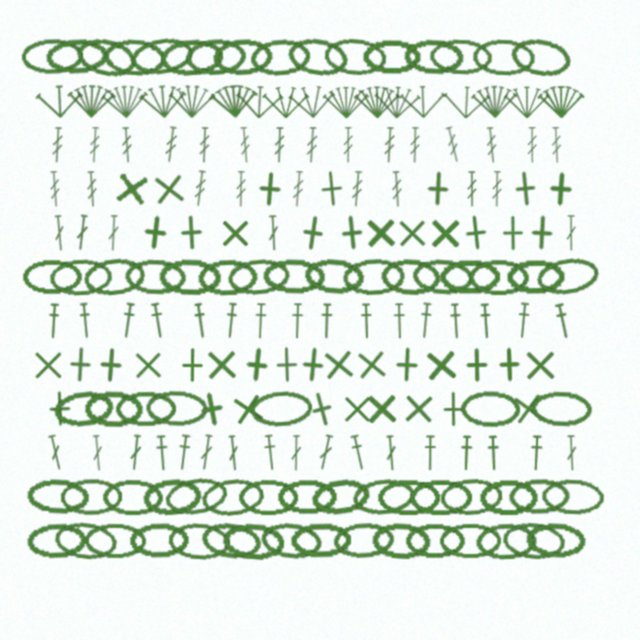chain: (73, 33, 139, 81), (534, 254, 601, 299), (508, 34, 573, 80), (129, 34, 195, 79), (163, 474, 229, 519), (285, 34, 350, 79), (199, 519, 264, 563), (53, 519, 119, 562), (309, 475, 373, 519), (226, 256, 292, 298), (82, 255, 146, 298), (200, 476, 265, 518), (351, 476, 416, 518), (259, 520, 324, 562), (52, 388, 116, 430), (323, 36, 388, 77), (501, 520, 566, 561), (159, 37, 224, 77), (167, 521, 232, 561), (303, 256, 366, 297), (141, 476, 204, 517), (249, 389, 313, 429), (221, 521, 285, 561), (103, 37, 166, 77), (411, 257, 474, 297), (184, 37, 248, 76), (342, 257, 406, 296), (439, 477, 503, 516), (332, 521, 396, 560), (249, 37, 311, 77), (45, 37, 108, 76), (26, 477, 89, 516), (472, 38, 536, 76), (212, 37, 274, 76), (380, 257, 442, 296), (525, 521, 587, 560), (429, 38, 492, 76), (49, 258, 112, 296), (541, 478, 604, 516), (475, 522, 538, 560), (371, 521, 432, 560), (145, 390, 209, 427), (403, 38, 465, 76), (124, 258, 186, 296), (197, 258, 259, 296), (530, 390, 592, 428), (26, 522, 88, 560), (158, 258, 221, 295), (262, 258, 325, 295), (508, 478, 571, 515), (21, 38, 83, 75), (60, 478, 122, 515), (377, 479, 440, 515), (409, 479, 472, 515), (84, 523, 147, 559), (129, 522, 190, 559), (290, 522, 351, 559), (468, 259, 530, 295), (102, 479, 164, 515), (439, 523, 501, 559), (84, 390, 144, 427), (460, 390, 520, 427), (22, 259, 83, 295), (439, 259, 500, 295), (115, 391, 176, 427), (277, 479, 338, 515), (405, 523, 466, 559), (362, 39, 422, 75), (506, 259, 566, 295), (238, 479, 298, 515), (479, 479, 539, 515)
double: (46, 434, 65, 471), (316, 434, 335, 471), (198, 434, 215, 471), (74, 214, 90, 251), (128, 434, 143, 471), (52, 215, 67, 251), (90, 435, 105, 471), (226, 435, 241, 471), (384, 435, 398, 471), (107, 215, 120, 251), (267, 215, 280, 251), (565, 435, 578, 471), (565, 215, 577, 251), (290, 435, 302, 471)
fan: (100, 81, 150, 120), (138, 81, 188, 120), (209, 81, 259, 120), (287, 81, 337, 120), (235, 82, 284, 120), (373, 82, 422, 120), (442, 82, 491, 120), (35, 82, 84, 119), (67, 82, 116, 119), (470, 82, 519, 119), (168, 82, 216, 119), (399, 82, 447, 119), (262, 83, 310, 119), (322, 83, 370, 119), (353, 83, 401, 119), (503, 83, 551, 119), (537, 83, 585, 119)
half_double: (552, 302, 573, 340), (348, 434, 368, 471), (148, 302, 167, 339), (119, 302, 137, 339), (175, 434, 193, 471), (192, 302, 209, 339), (417, 302, 434, 339), (515, 302, 532, 339), (262, 434, 279, 471), (77, 302, 93, 339), (223, 302, 239, 339), (154, 435, 170, 471), (46, 303, 61, 339), (253, 303, 268, 339), (290, 303, 305, 339), (319, 303, 334, 339), (359, 303, 374, 339), (392, 303, 407, 339), (448, 303, 463, 339), (478, 303, 493, 339), (459, 435, 474, 471), (486, 435, 501, 471), (529, 435, 544, 471), (423, 435, 437, 471)
single: (300, 387, 344, 431), (191, 388, 233, 430), (227, 388, 269, 430), (111, 168, 152, 209), (508, 388, 549, 429), (149, 169, 189, 209), (293, 213, 333, 253), (312, 169, 351, 208), (506, 169, 545, 208), (136, 213, 175, 252), (332, 213, 371, 252), (456, 213, 495, 252), (237, 345, 276, 384), (293, 345, 332, 384), (319, 345, 358, 384), (352, 345, 391, 384), (251, 170, 289, 208), (542, 170, 580, 208), (92, 346, 130, 384), (422, 346, 460, 384), (419, 170, 456, 207), (173, 214, 210, 251), (362, 214, 399, 251), (523, 214, 560, 251), (62, 346, 99, 383), (203, 346, 240, 383), (268, 346, 305, 383), (388, 346, 425, 383), (491, 346, 528, 383), (41, 390, 78, 427), (363, 390, 400, 427), (400, 390, 437, 427), (217, 215, 253, 251), (394, 215, 430, 251), (427, 215, 463, 251), (495, 215, 531, 251), (30, 347, 66, 383), (130, 347, 166, 383), (174, 347, 210, 383), (459, 347, 495, 383), (522, 347, 558, 383), (339, 391, 375, 427), (435, 391, 471, 427)
treble: (443, 126, 463, 163), (163, 126, 179, 163), (192, 170, 208, 207), (484, 127, 499, 163), (120, 127, 134, 163), (238, 127, 252, 163), (305, 127, 319, 163), (48, 171, 62, 207), (85, 171, 99, 207), (291, 171, 305, 207), (350, 171, 364, 207), (390, 171, 404, 207), (51, 127, 64, 163), (88, 127, 101, 163), (198, 127, 211, 163), (273, 127, 286, 163), (383, 127, 396, 163), (550, 127, 563, 163), (342, 127, 354, 163), (409, 127, 421, 163), (526, 127, 538, 163), (235, 171, 247, 207), (466, 171, 478, 207), (491, 171, 503, 207)
